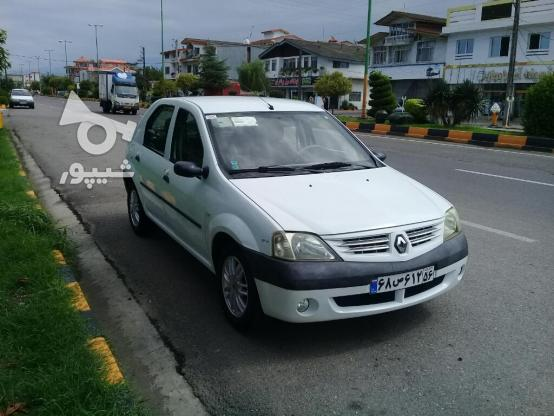car: (369, 266, 438, 296)
